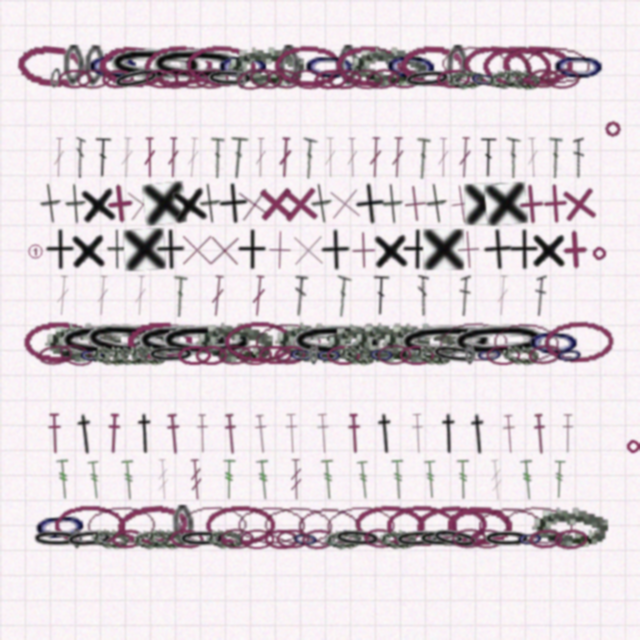chain: (79, 317, 184, 366), (104, 43, 208, 88), (447, 319, 551, 364), (146, 44, 250, 88), (394, 320, 498, 364), (132, 321, 235, 363), (55, 321, 158, 362), (156, 321, 259, 362), (287, 321, 390, 362), (274, 319, 352, 364), (115, 502, 189, 549), (461, 42, 533, 90), (326, 320, 403, 364), (15, 42, 87, 89), (502, 503, 576, 548), (350, 44, 427, 87), (196, 320, 273, 363), (353, 320, 430, 363), (439, 43, 512, 88), (97, 43, 168, 89), (415, 504, 489, 548), (262, 504, 335, 548), (382, 321, 458, 363), (532, 505, 608, 547), (437, 320, 510, 363), (85, 504, 158, 547), (491, 320, 562, 364), (228, 45, 304, 86), (45, 321, 121, 362), (501, 44, 573, 87), (543, 320, 615, 363), (176, 504, 248, 547), (143, 44, 214, 87), (185, 44, 256, 87), (334, 44, 405, 87), (522, 44, 593, 87), (354, 504, 425, 547), (273, 44, 343, 87), (399, 44, 468, 87), (224, 321, 296, 362), (325, 505, 397, 546), (386, 505, 458, 546), (476, 505, 546, 547), (23, 321, 94, 362), (54, 505, 125, 546), (482, 45, 551, 87), (253, 321, 322, 363), (295, 505, 364, 547), (205, 505, 275, 546), (236, 505, 306, 546), (446, 505, 514, 547), (126, 321, 194, 362), (382, 44, 441, 88), (31, 504, 90, 548), (301, 45, 359, 87), (550, 45, 608, 87), (525, 321, 583, 363), (85, 45, 142, 86), (215, 45, 272, 86), (110, 64, 163, 94), (429, 525, 481, 553), (429, 342, 481, 367), (402, 67, 453, 91), (64, 527, 115, 551), (332, 527, 383, 550), (393, 528, 444, 550), (57, 341, 95, 369), (205, 68, 255, 89), (146, 344, 196, 365), (31, 529, 81, 549), (177, 529, 227, 549), (417, 529, 467, 549), (482, 529, 532, 549), (235, 66, 273, 92), (486, 66, 525, 91), (83, 45, 106, 87), (502, 67, 541, 91), (278, 45, 300, 86), (446, 45, 468, 86), (172, 505, 194, 546), (37, 343, 74, 367), (248, 66, 283, 91), (129, 343, 167, 366), (338, 343, 376, 366), (414, 343, 452, 366), (501, 343, 539, 366), (91, 527, 129, 550), (146, 527, 184, 550), (266, 67, 302, 91), (63, 45, 84, 86), (338, 45, 359, 86), (446, 68, 484, 90), (91, 344, 129, 366), (132, 528, 170, 550), (324, 528, 362, 550), (365, 67, 401, 90), (527, 343, 563, 366), (217, 344, 253, 366), (206, 528, 243, 549), (76, 68, 111, 90), (174, 68, 209, 90), (313, 68, 348, 90), (327, 68, 362, 90), (348, 68, 383, 90), (169, 528, 204, 550), (301, 528, 336, 550), (528, 528, 563, 550), (553, 528, 588, 550), (451, 528, 487, 549), (101, 68, 135, 90), (291, 68, 325, 90), (273, 344, 307, 366), (111, 528, 145, 550), (111, 345, 148, 365), (379, 529, 416, 549), (158, 68, 193, 89), (194, 68, 229, 89), (545, 68, 580, 89), (363, 528, 398, 549), (377, 344, 411, 365), (220, 528, 254, 549), (399, 345, 434, 365), (527, 68, 560, 89), (58, 69, 92, 89), (145, 69, 179, 89), (387, 69, 421, 89), (436, 69, 470, 89), (177, 345, 211, 365), (238, 345, 272, 365), (258, 345, 292, 365), (326, 345, 360, 365), (486, 345, 520, 365), (240, 529, 274, 549), (264, 529, 298, 549), (276, 529, 310, 549), (470, 529, 504, 549), (195, 345, 228, 365), (469, 68, 498, 90), (555, 344, 584, 366), (291, 528, 320, 550), (367, 344, 396, 365), (475, 344, 504, 365), (288, 344, 316, 365), (516, 528, 544, 549), (78, 345, 106, 365), (315, 345, 343, 365), (49, 68, 62, 89), (236, 69, 247, 89), (309, 345, 319, 365), (465, 345, 475, 365), (72, 529, 82, 549)
double: (228, 137, 249, 179), (333, 275, 352, 317), (300, 137, 318, 179), (413, 137, 431, 179), (170, 275, 188, 317), (94, 137, 112, 178), (372, 275, 390, 316), (209, 275, 226, 317), (250, 275, 267, 317), (292, 275, 309, 317), (208, 137, 225, 178), (480, 137, 497, 178), (546, 137, 563, 178), (54, 275, 71, 316), (119, 137, 135, 178), (185, 137, 201, 178), (277, 137, 293, 178), (457, 137, 473, 178), (505, 137, 521, 178), (368, 137, 383, 178), (390, 137, 405, 178), (525, 137, 540, 178), (95, 275, 110, 316), (133, 275, 148, 316), (495, 275, 510, 316), (52, 137, 66, 178), (166, 137, 180, 178), (323, 137, 337, 178), (345, 137, 359, 178), (436, 137, 450, 178), (143, 137, 156, 178), (254, 137, 267, 178), (416, 275, 429, 316), (534, 275, 547, 316), (74, 137, 86, 178), (459, 275, 471, 316), (573, 137, 584, 178)
half_double: (72, 413, 99, 455), (466, 413, 491, 455), (373, 413, 398, 454), (133, 413, 157, 454), (437, 413, 461, 454), (164, 413, 183, 455), (222, 413, 240, 455), (252, 413, 270, 455), (500, 413, 518, 455), (531, 413, 549, 455), (314, 413, 332, 454), (46, 413, 63, 454), (283, 413, 300, 454), (346, 413, 363, 454), (409, 413, 426, 454), (106, 413, 122, 454), (195, 413, 210, 454), (560, 413, 575, 454)
noise: (602, 118, 623, 139), (26, 242, 45, 261), (591, 245, 607, 261), (626, 439, 640, 454)
single: (120, 181, 166, 227), (231, 181, 277, 227), (439, 181, 485, 227), (556, 181, 602, 227), (97, 181, 142, 226), (142, 181, 187, 226), (322, 181, 367, 226), (392, 181, 437, 226), (168, 181, 211, 227), (278, 182, 322, 226), (484, 182, 528, 226), (509, 182, 553, 226), (254, 182, 297, 225), (534, 182, 577, 225), (123, 228, 166, 271), (447, 228, 490, 271), (553, 228, 596, 271), (78, 182, 119, 226), (464, 183, 506, 225), (203, 229, 245, 271), (259, 229, 301, 271), (287, 229, 329, 271), (342, 229, 384, 271), (176, 229, 217, 270), (423, 229, 464, 270), (371, 229, 411, 271), (69, 229, 108, 271), (530, 229, 568, 270), (352, 182, 387, 226), (216, 182, 250, 225), (481, 228, 514, 271), (319, 229, 351, 271), (154, 229, 186, 270), (44, 229, 75, 270), (236, 229, 267, 270), (401, 229, 432, 270), (508, 229, 539, 270), (38, 182, 64, 225), (309, 182, 335, 225), (424, 182, 450, 225), (198, 182, 223, 225), (64, 183, 88, 225), (381, 183, 405, 225), (107, 229, 128, 270)
treble: (86, 459, 104, 501), (120, 459, 138, 501), (355, 459, 373, 501), (255, 459, 272, 501), (488, 459, 505, 501), (519, 459, 536, 501), (55, 459, 72, 500), (320, 459, 337, 500), (390, 459, 407, 500), (155, 459, 171, 500), (188, 459, 204, 500), (423, 459, 439, 500), (456, 459, 471, 500), (552, 459, 567, 500), (222, 459, 236, 500), (289, 459, 303, 500)
